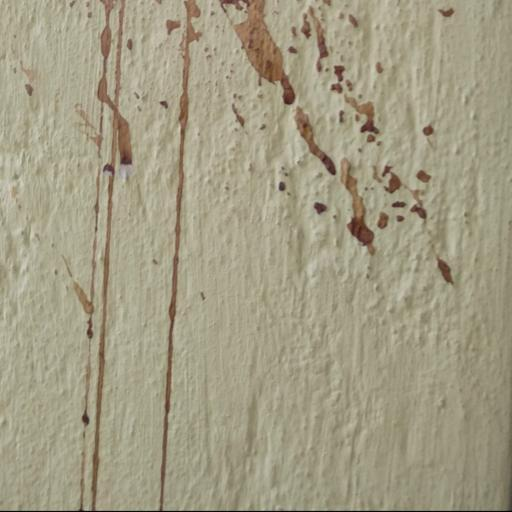stain: (64, 1, 431, 501)
